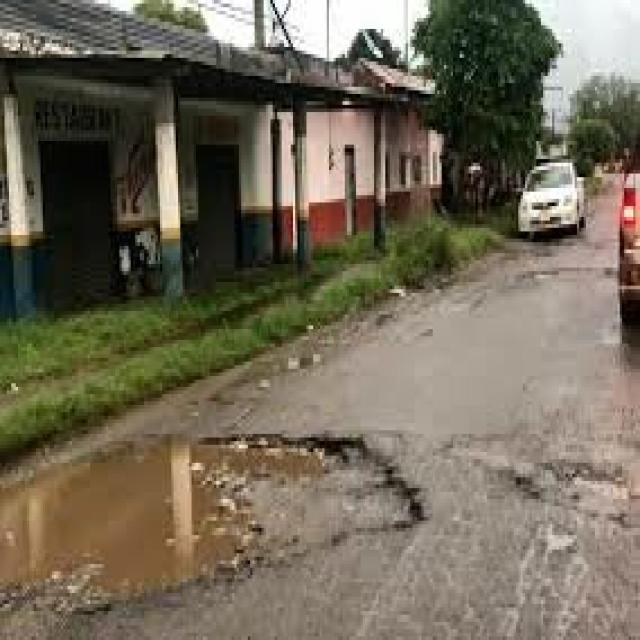Pothole: (9, 372, 455, 633)
